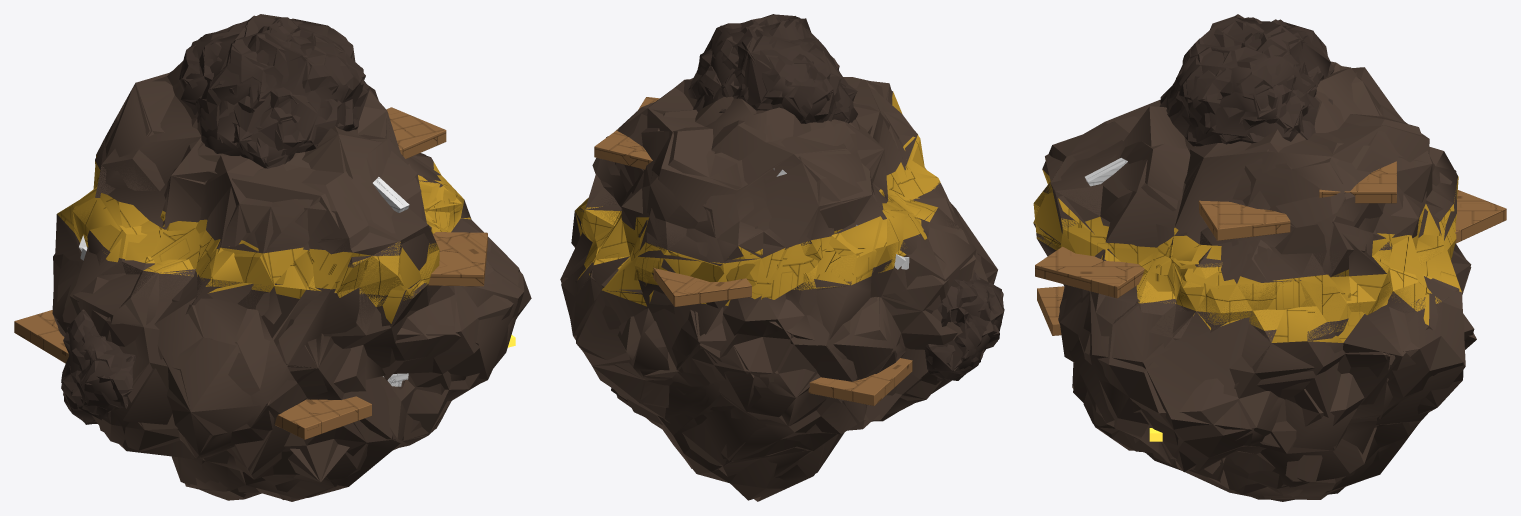
The model's file is place_rock_junk_boulder.glb.
3 renders of one model, left to right at view 1: azimuth 30°, elevation 25°; view 2: azimuth 150°, elevation 25°; view 3: azimuth 270°, elevation 25°, orthographic. The views are drawn at different scales.
Visible parts, largest first — view 1: LOD2_Stone, LOD0_Stone, LOD1_Stone, LOD0_Stone_deep, LOD1_Stone_deep, LOD0_BrushedMetal, LOD2_Stone_deep, LOD0_Warning, LOD2_Warning, LOD1_Warning, LOD0_MechanicalDark; view 2: LOD2_Stone, LOD0_Stone, LOD1_Stone, LOD2_Warning, LOD0_Stone_deep, LOD1_Stone_deep, LOD0_BrushedMetal, LOD2_Stone_deep, LOD0_Warning, LOD1_Warning; view 3: LOD2_Stone, LOD0_Stone, LOD1_Stone, LOD0_BrushedMetal, LOD2_Warning, LOD0_Warning, LOD1_Warning, LOD0_Stone_deep, LOD2_Stone_deep, LOD1_Stone_deep.
Part boxes in pixels (x1,y1,x2,y2): LOD2_Stone: (52,61,520,501); LOD0_Stone: (53,71,531,500); LOD1_Stone: (54,83,517,500); LOD0_Stone_deep: (61,14,367,424); LOD1_Stone_deep: (62,14,368,423); LOD0_BrushedMetal: (14,107,487,439); LOD2_Stone_deep: (63,15,369,422); LOD0_Warning: (60,162,461,298); LOD2_Warning: (57,155,470,323); LOD1_Warning: (62,161,464,306); LOD0_MechanicalDark: (79,177,409,386); LOD2_Stone: (560,78,997,501); LOD0_Stone: (561,77,997,500); LOD1_Stone: (562,77,997,471); LOD2_Warning: (575,91,933,306); LOD0_Stone_deep: (690,14,1004,381); LOD1_Stone_deep: (690,14,1003,380); LOD0_BrushedMetal: (594,97,912,405); LOD2_Stone_deep: (688,16,1003,379); LOD0_Warning: (581,135,940,286); LOD1_Warning: (575,135,937,293); LOD2_Stone: (1033,66,1476,499); LOD0_Stone: (1036,61,1473,501); LOD1_Stone: (1037,108,1474,499); LOD0_BrushedMetal: (1035,161,1506,335); LOD2_Warning: (1033,159,1461,342); LOD0_Warning: (1033,170,1458,330); LOD1_Warning: (1033,171,1456,339); LOD0_Stone_deep: (1160,14,1334,146); LOD2_Stone_deep: (1159,17,1330,145); LOD1_Stone_deep: (1160,16,1333,144).
Size of what is drawn, in the model's own units: 10.84 by 11.56 by 10.25.
Materials: 6 (3 with a texture image).
